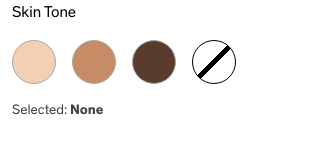
Scenario: SkinTonePicker › lets someone prefer not to say
Click the radio button named "Prefer not to say" at x=214, y=62, box [192, 40, 236, 84]
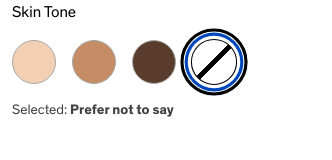
Result: the text "Prefer not to say" is shown at [70, 103, 174, 117]
